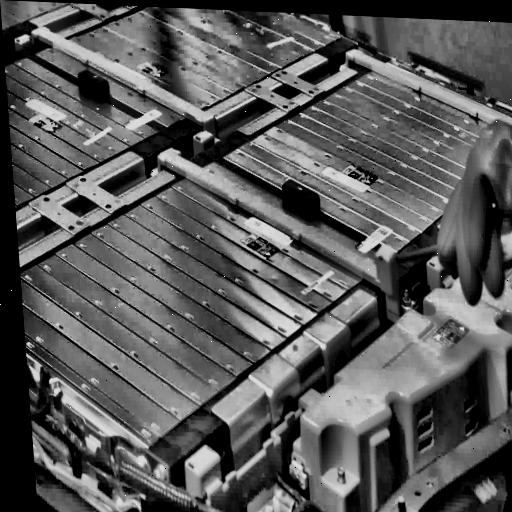battery_module: (20, 159, 388, 446), (225, 58, 512, 253), (35, 7, 339, 127), (5, 56, 159, 209)
busbar: (149, 144, 408, 324), (11, 25, 223, 159), (182, 381, 326, 512), (339, 46, 512, 134)
low_volt_cable: (29, 387, 234, 512), (270, 464, 339, 512)
